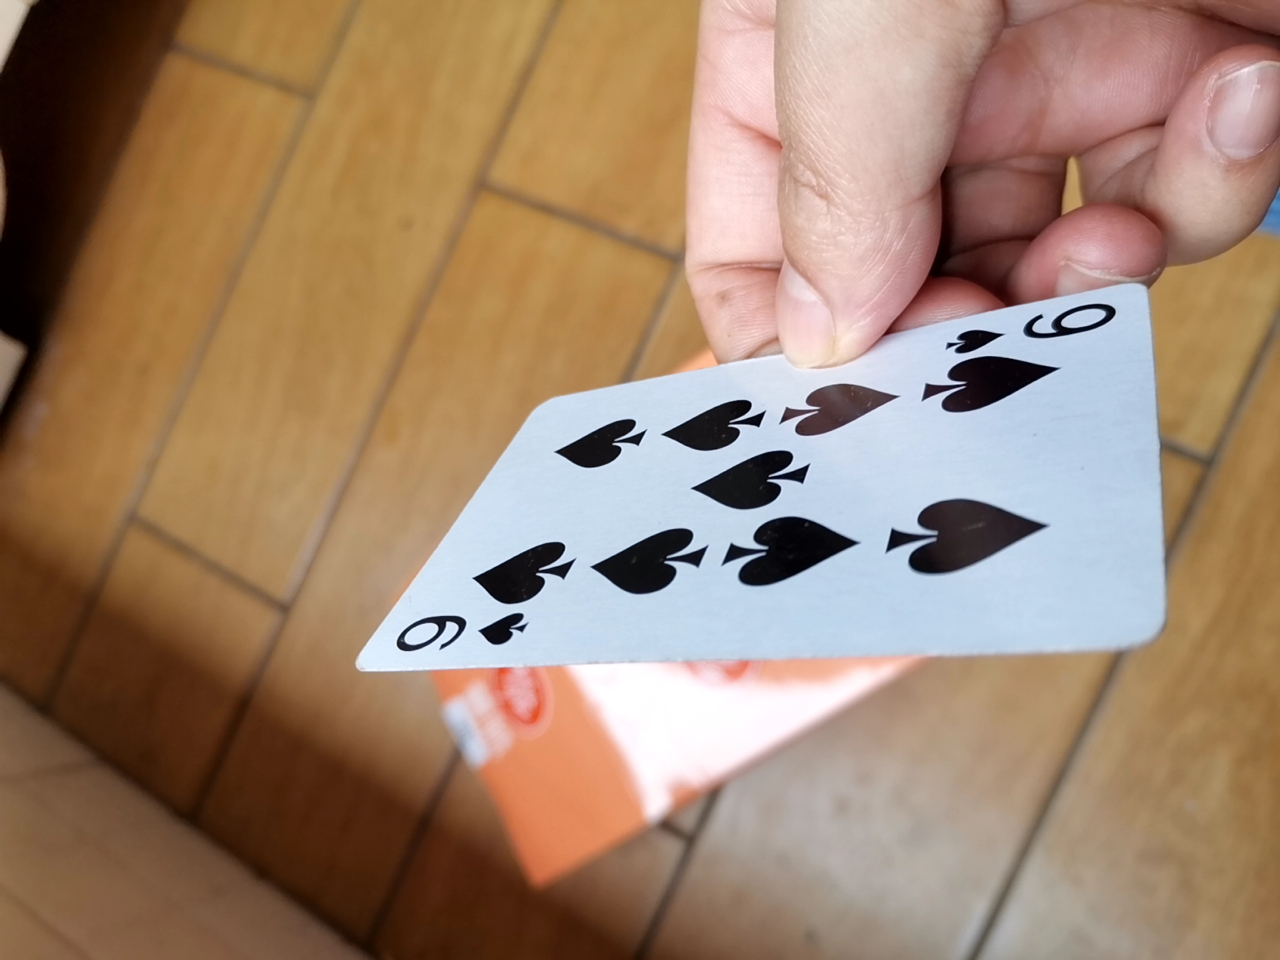ht 9: (347, 281, 1193, 693)
